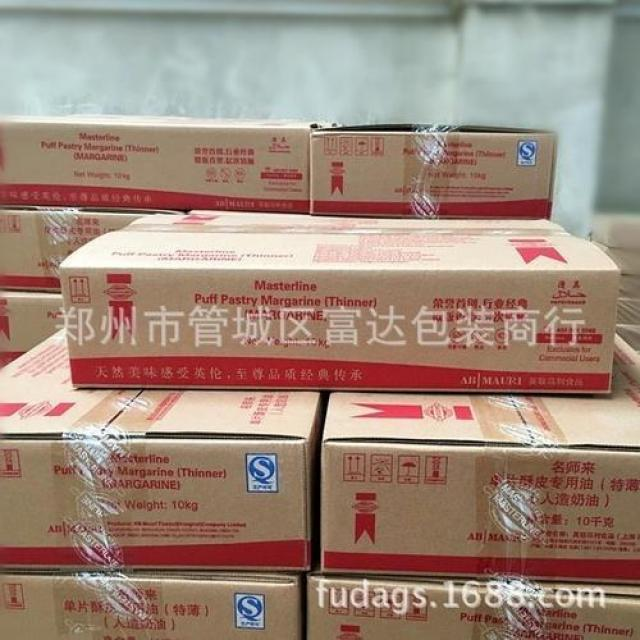box: (56, 210, 618, 402), (307, 330, 640, 574), (0, 318, 307, 570), (0, 120, 314, 227), (309, 116, 556, 228), (298, 573, 640, 640), (0, 572, 309, 636), (0, 202, 156, 288)
